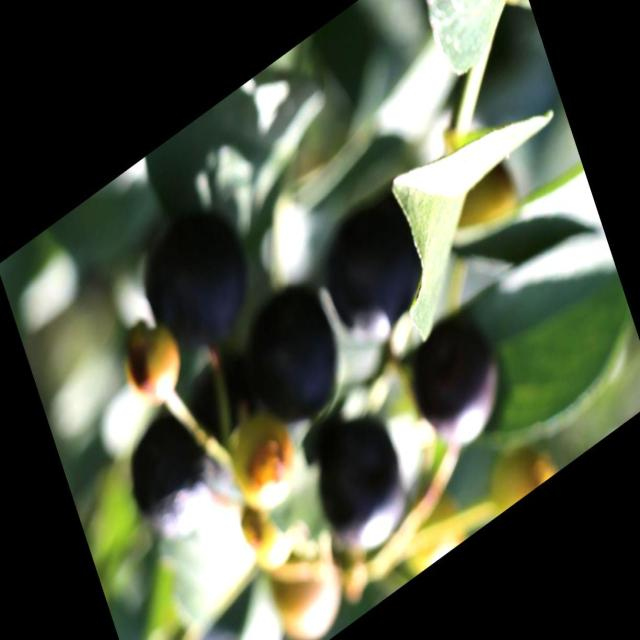blueberry: (133, 184, 266, 387), (314, 172, 444, 370), (297, 393, 418, 580), (233, 264, 354, 449), (396, 292, 518, 475), (116, 394, 226, 563)
